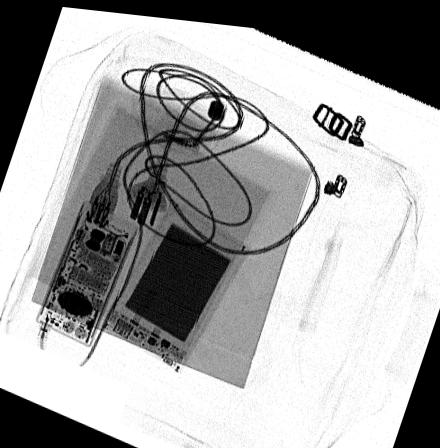Powerbank: (98, 195, 250, 371)
